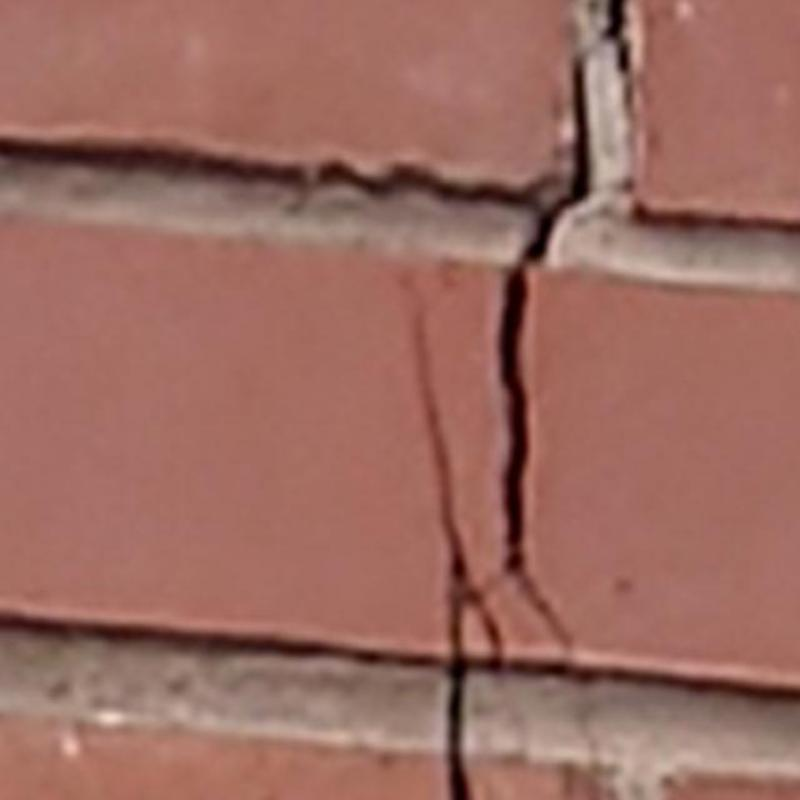pothole: (478, 56, 591, 646), (400, 275, 503, 799), (580, 0, 631, 72)
